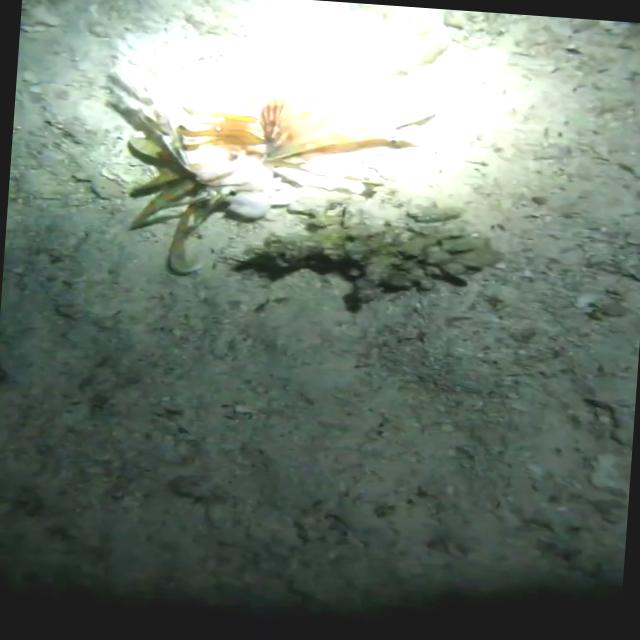Aslan Baligi: (67, 20, 436, 294)
